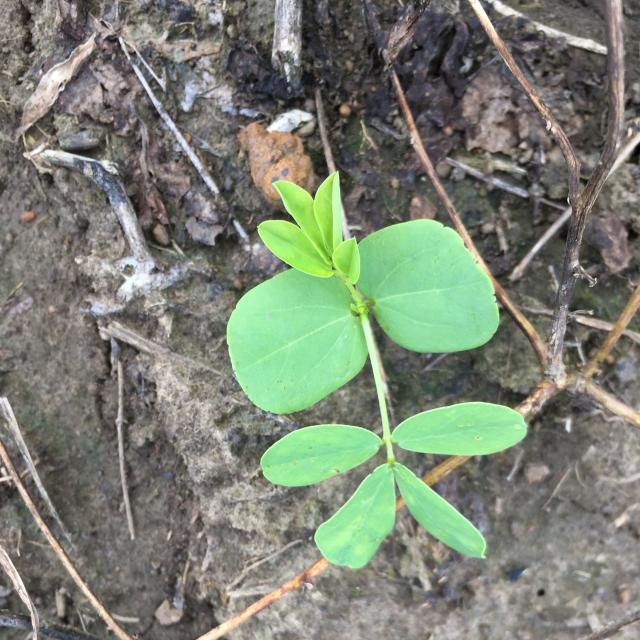Sicklepod: (226, 170, 527, 568)
